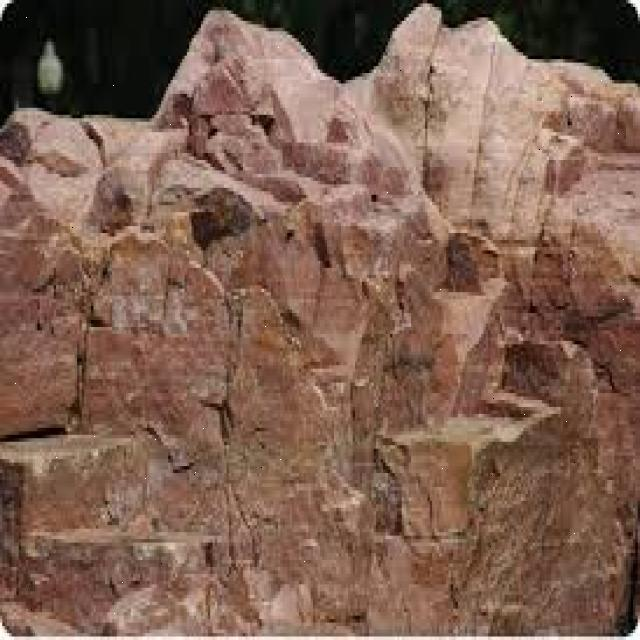Metamorphic: (5, 4, 633, 626)
